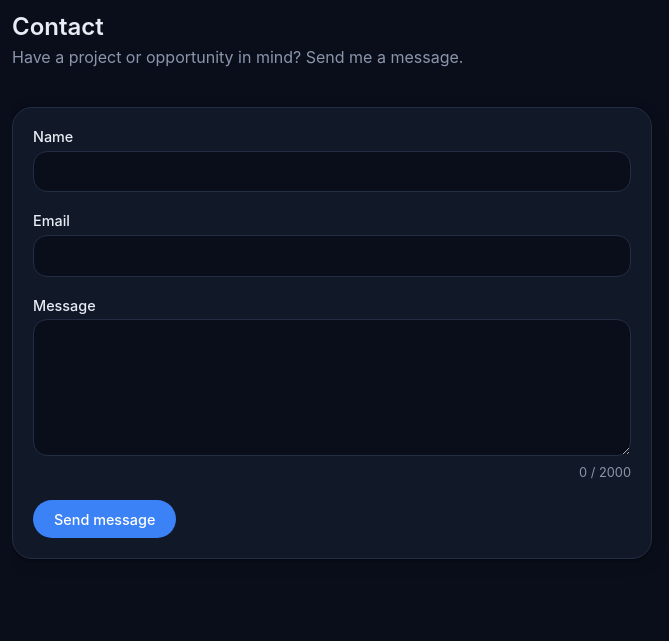
Scenario: Contact form › clears a field error once the user starts typing
The width and height of the screenshot is (669, 641).
Click the button "Send message" at (105, 519), box [33,500,176,538]
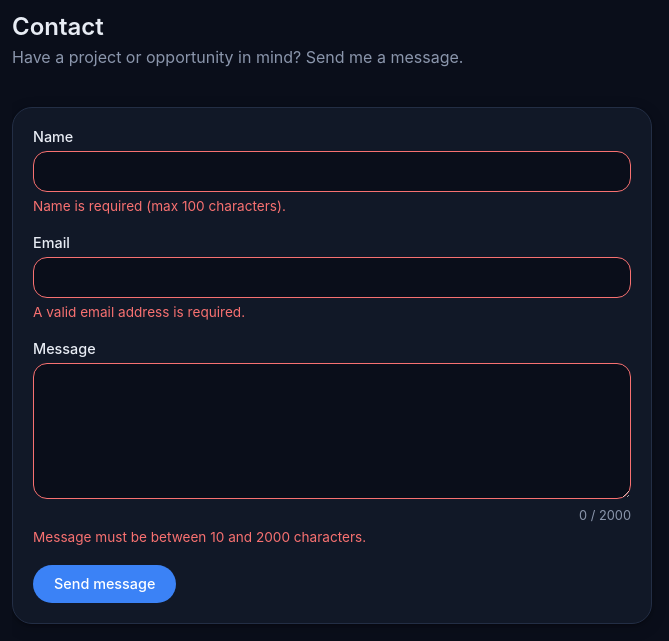
Expected: the text "Name is required (max 100 characters)." is shown, [33,198,286,214]
Type "Lance" into the field labelled "Name" at (332, 172), box [33,151,631,192]
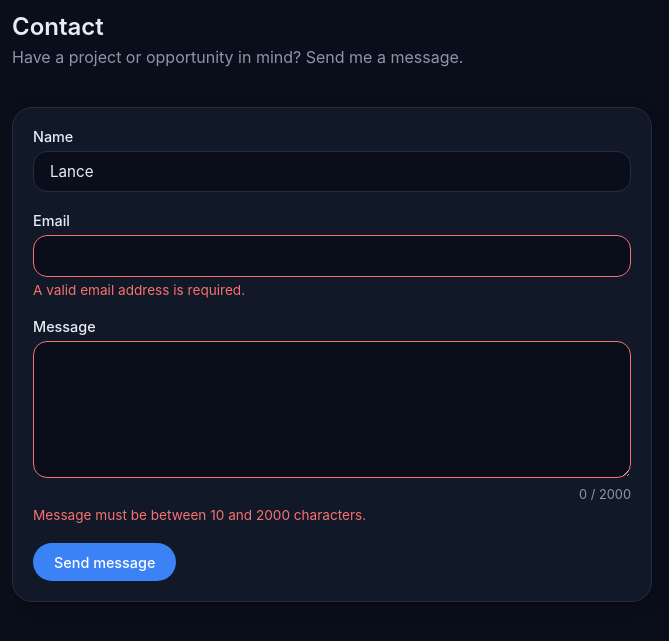
Expected: the text "Name is required" is gone
